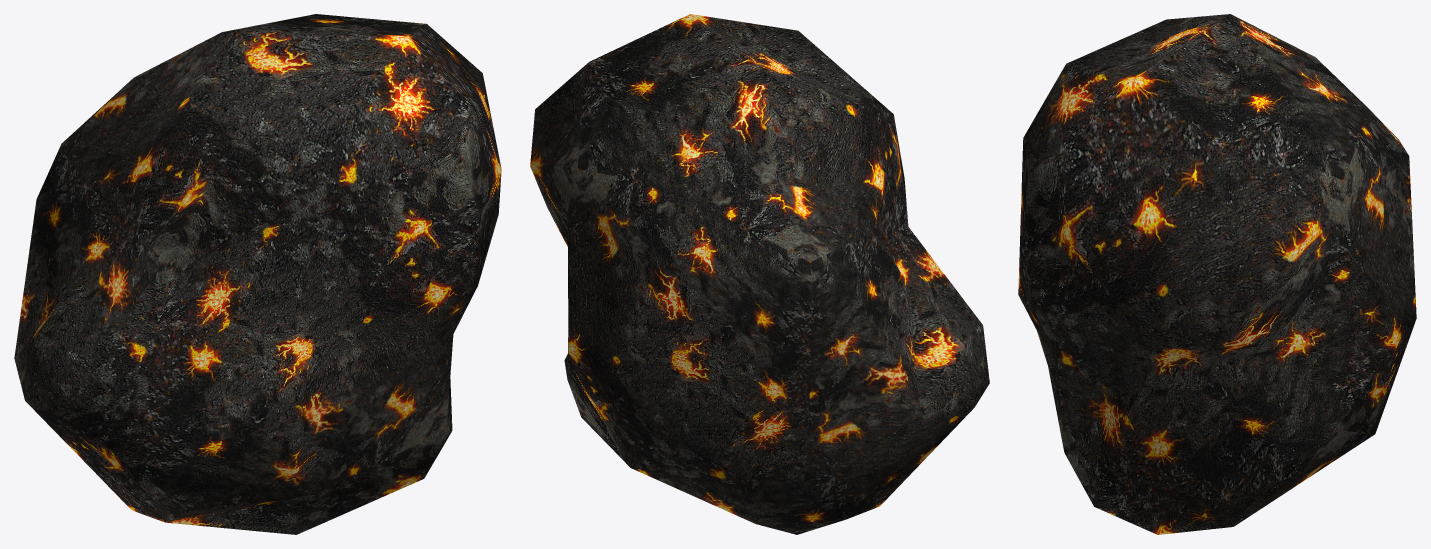
Rendered from asteroid_moltenrock_small_s01_l1.fbx.
3 views of the same model, side by side, from view 1: azimuth 30°, elevation 25°; view 2: azimuth 150°, elevation 25°; view 3: azimuth 270°, elevation 25° (orthographic). The views are drawn at different scales.
Visible parts, largest first — view 1: mesh_node; view 2: mesh_node; view 3: mesh_node.
Part boxes in pixels (x1,y1,x2,y2): mesh_node: [14, 14, 501, 534]; mesh_node: [530, 14, 989, 534]; mesh_node: [1018, 14, 1416, 534].
Bounding box in the file's own units: 28.42 × 28.37 × 21.21.
1 material, 1 textured.
